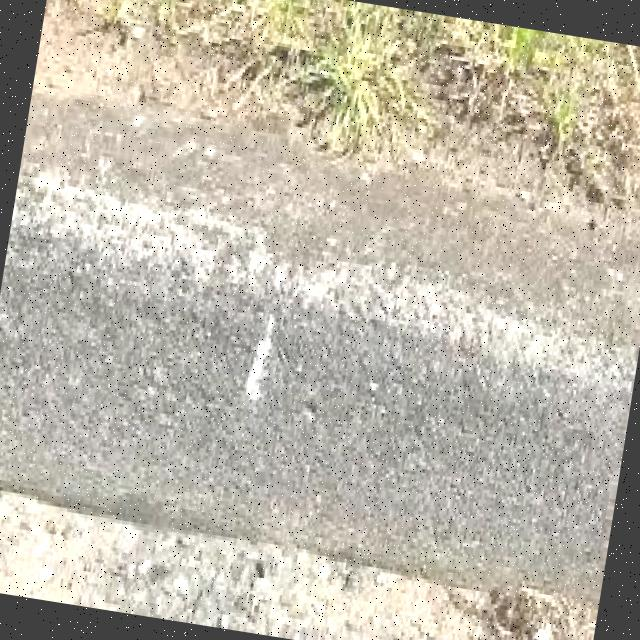curb: (1, 77, 640, 621)
